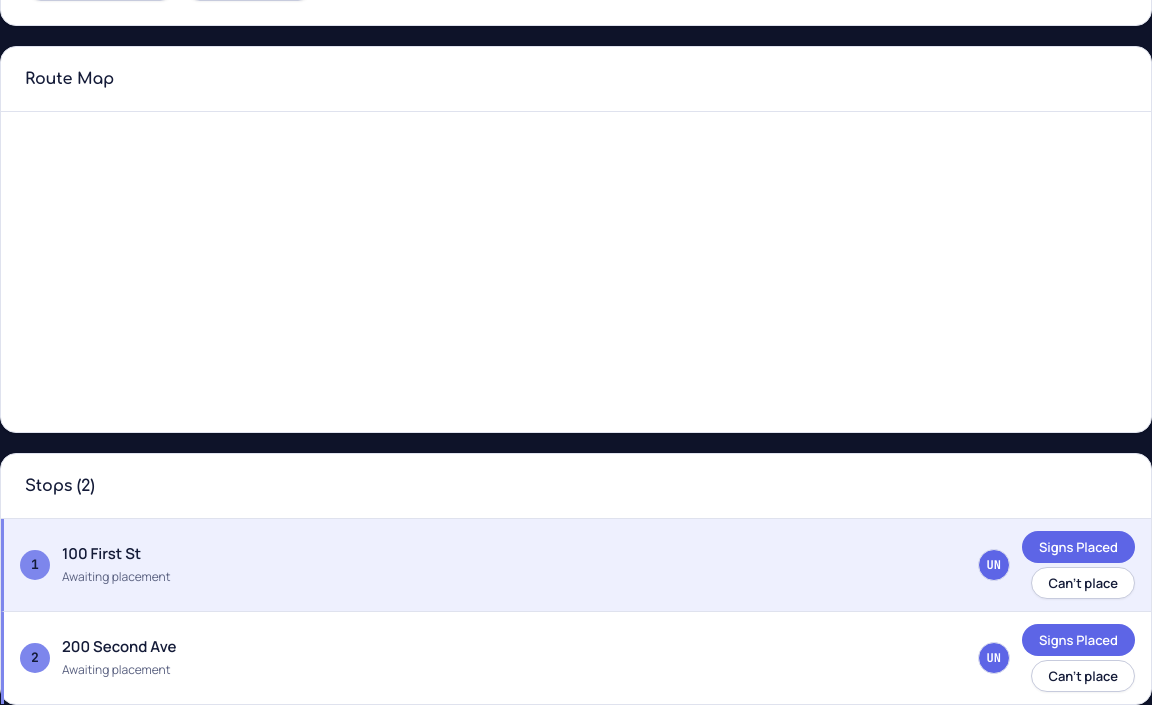
it: Administrator Stop actions on the Route detail page › shows a refused action on that Stop and does not reload
(page scrolled)
Click the button "Signs Placed" in the row of "100 First St" at (1078, 546), box [1022,530,1135,562]
(page scrolled)
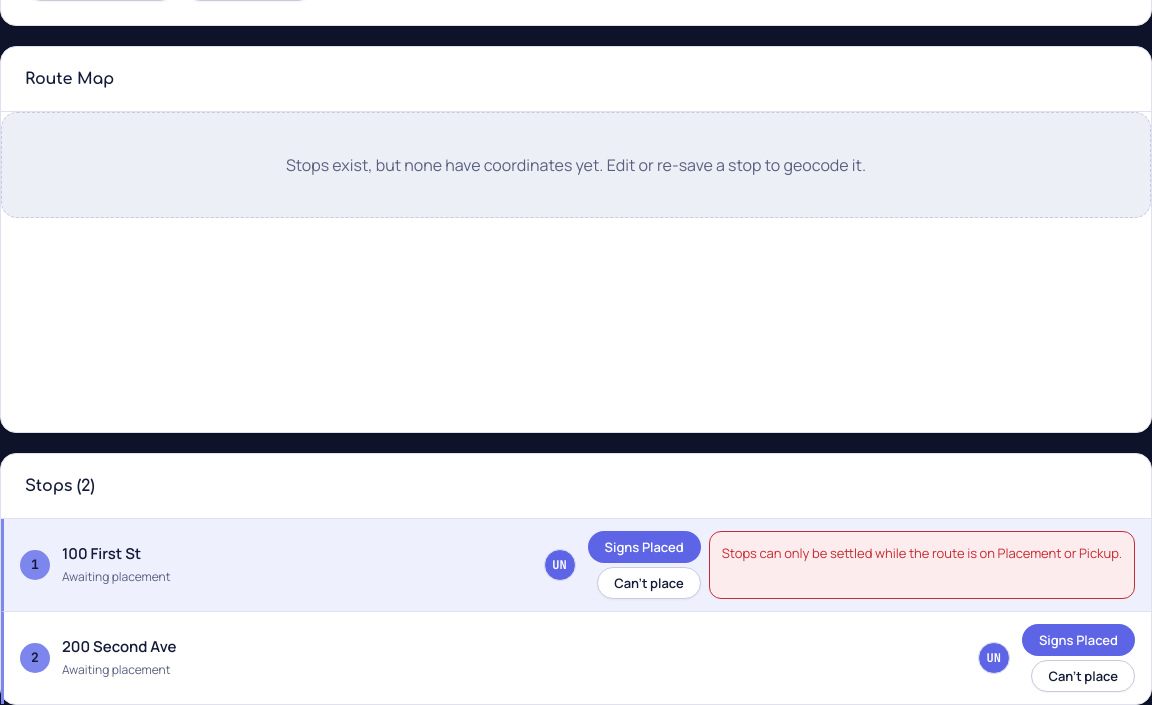
Expected: the message shows "Stops can only be settled", [722,544,1122,562]
